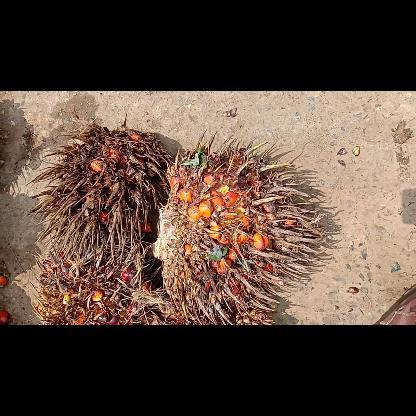Terlalu masak: (148, 128, 342, 324), (19, 115, 179, 264), (30, 238, 174, 324)
